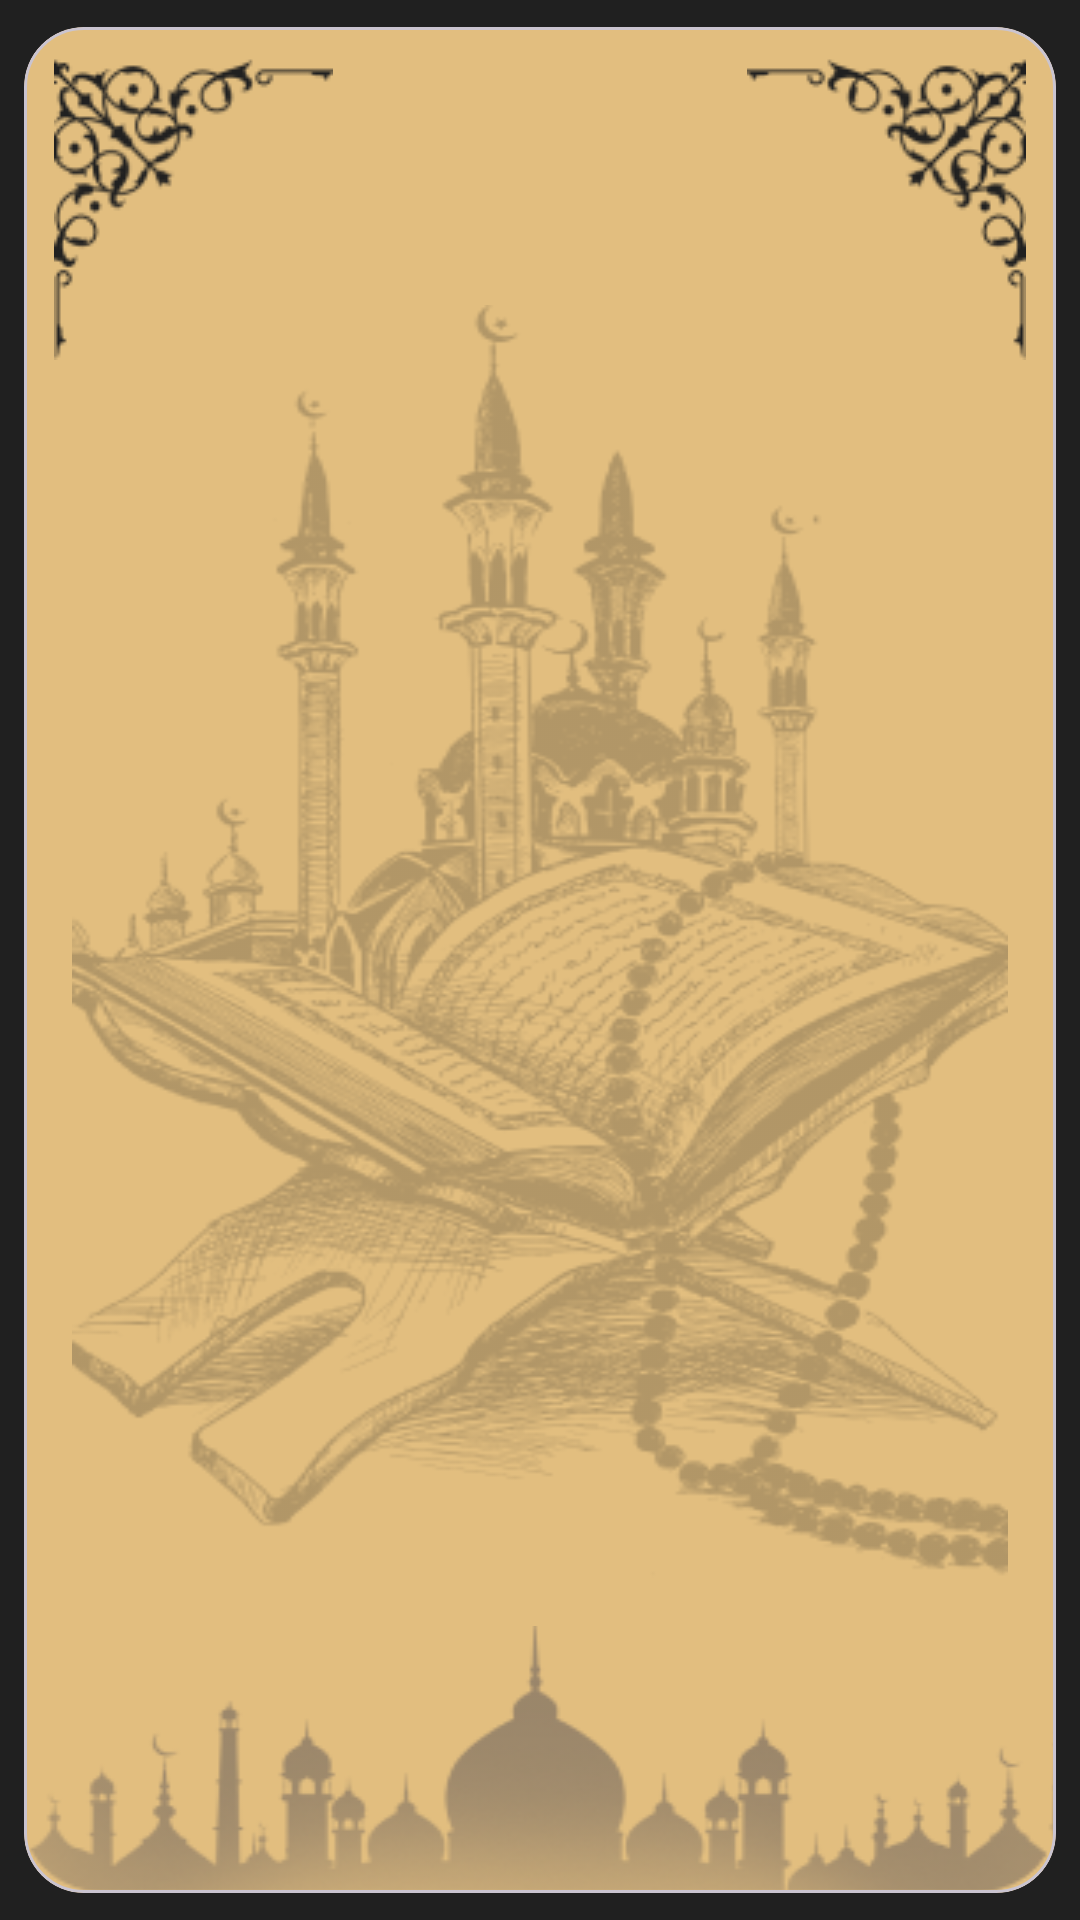

Screen size 1080w x 1920h. Icon name, then its box in pixels as (x1, y1, x2, y2):
hadeth card left corner: (54, 59, 333, 358)
hadeth card right corner: (747, 59, 1026, 358)
